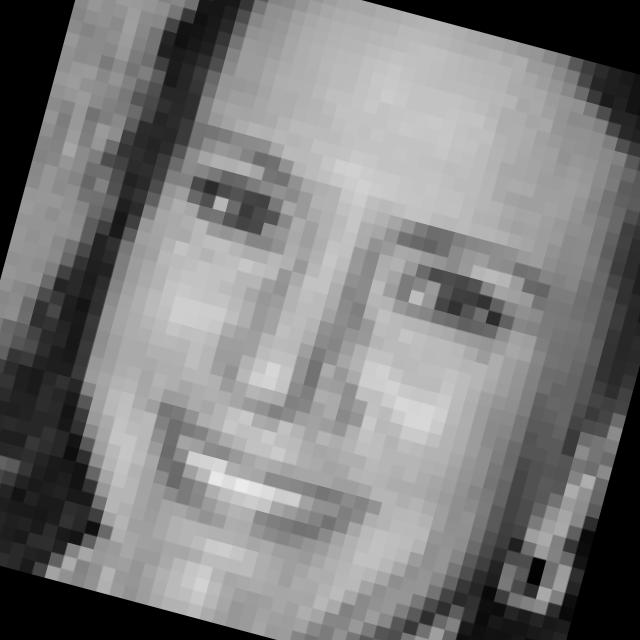happy: (81, 115, 574, 616)
